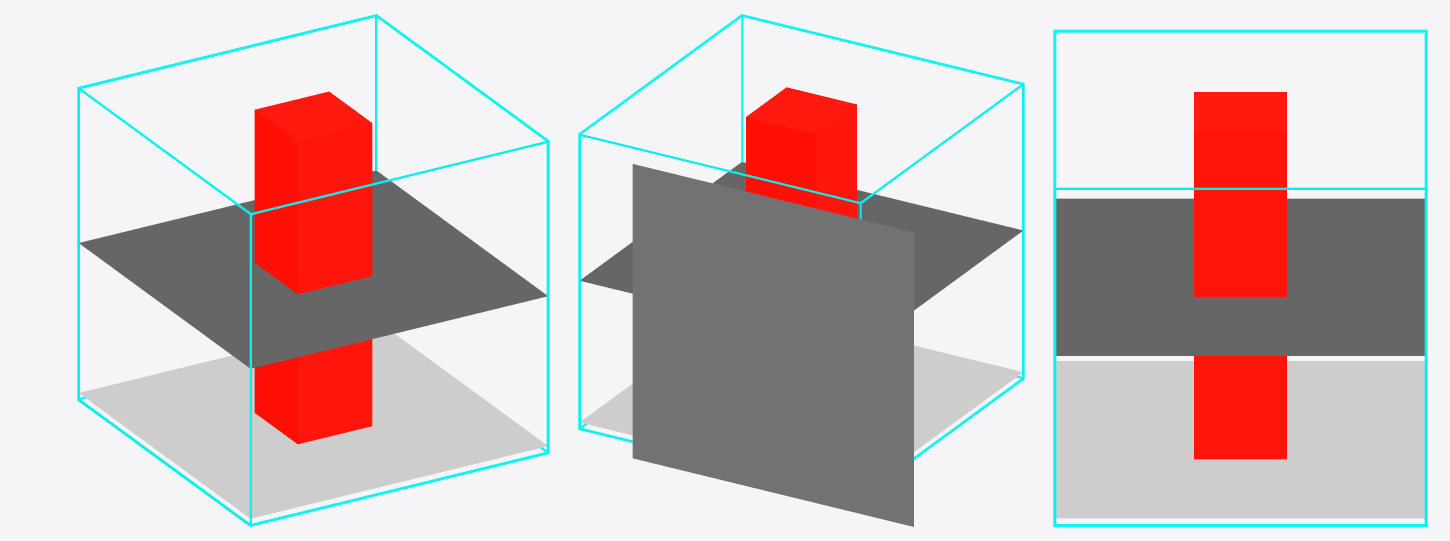
3 renders of one model, left to right at view 1: azimuth 30°, elevation 25°; view 2: azimuth 150°, elevation 25°; view 3: azimuth 270°, elevation 25°, orthographic. The views are drawn at different scales.
Parts seen in each view (by area): view 1: Plane, Plane.001, Cube, Cube.001; view 2: Plane.002, Cube, Plane, Plane.001, Cube.001; view 3: Plane.001, Plane, Cube, Cube.001.
Part boxes in pixels (x1,y1,x2,y2): Plane: (79,171,546,368); Plane.001: (80,333,546,518); Cube: (254,91,372,444); Cube.001: (77,14,549,526); Plane.002: (632,164,913,526); Cube: (746,87,856,218); Plane: (581,162,1021,310); Plane.001: (581,345,1022,451); Cube.001: (578,14,1024,459); Plane.001: (1056,361,1424,518); Plane: (1056,198,1424,355); Cube: (1194,92,1286,459); Cube.001: (1053,29,1427,526).
Bounding box in the file's own units: 9.64 × 8.37 × 8.21.
